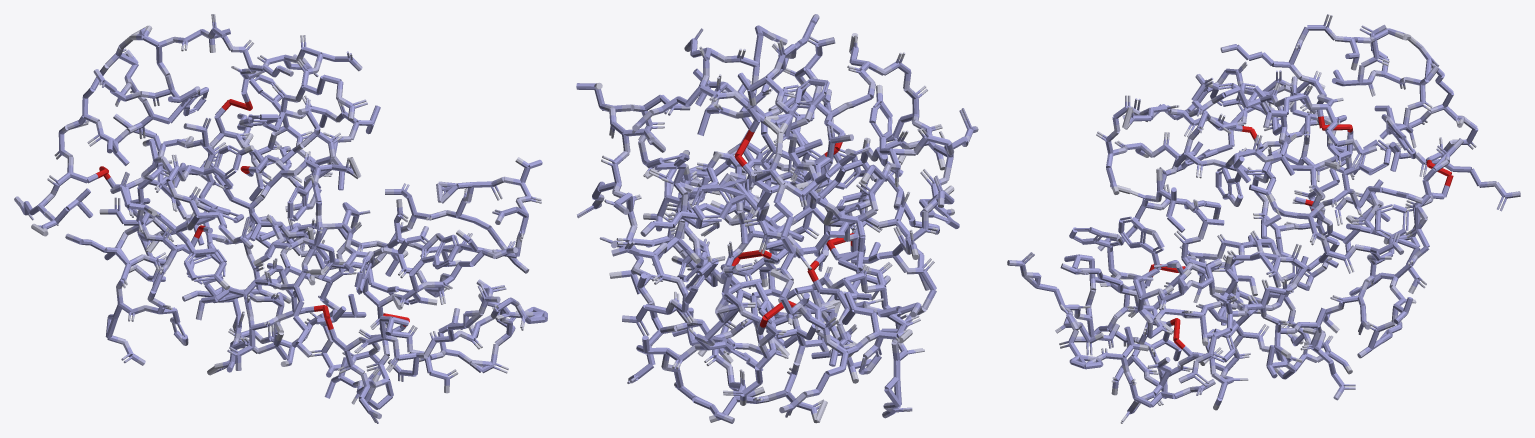
The model's file is 1lyz__sticks__b-factor.glb.
3 views of the same model, side by side, from view 1: azimuth 30°, elevation 25°; view 2: azimuth 150°, elevation 25°; view 3: azimuth 270°, elevation 25° (orthographic). The views are drawn at different scales.
Parts seen in each view (by area): view 1: Renderer Node; view 2: Renderer Node; view 3: Renderer Node.
Boxes of the visible parts, x1,y1,x2,y2 form: Renderer Node: (14,14,547,423); Renderer Node: (576,14,978,423); Renderer Node: (1007,14,1520,423).
Bounding box in the file's own units: 38.95 × 32.98 × 44.29.
